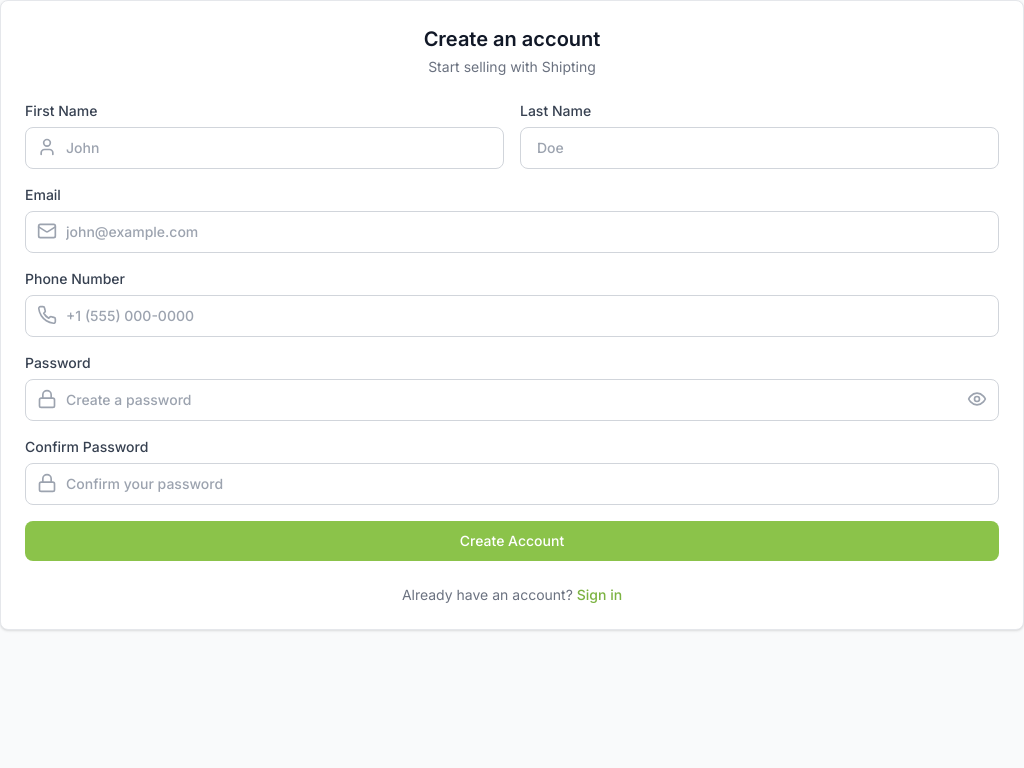
RegisterPage › shows validation errors for empty fields
Step 1. Click the button "Create Account" → [512, 541], box [25, 521, 999, 561]
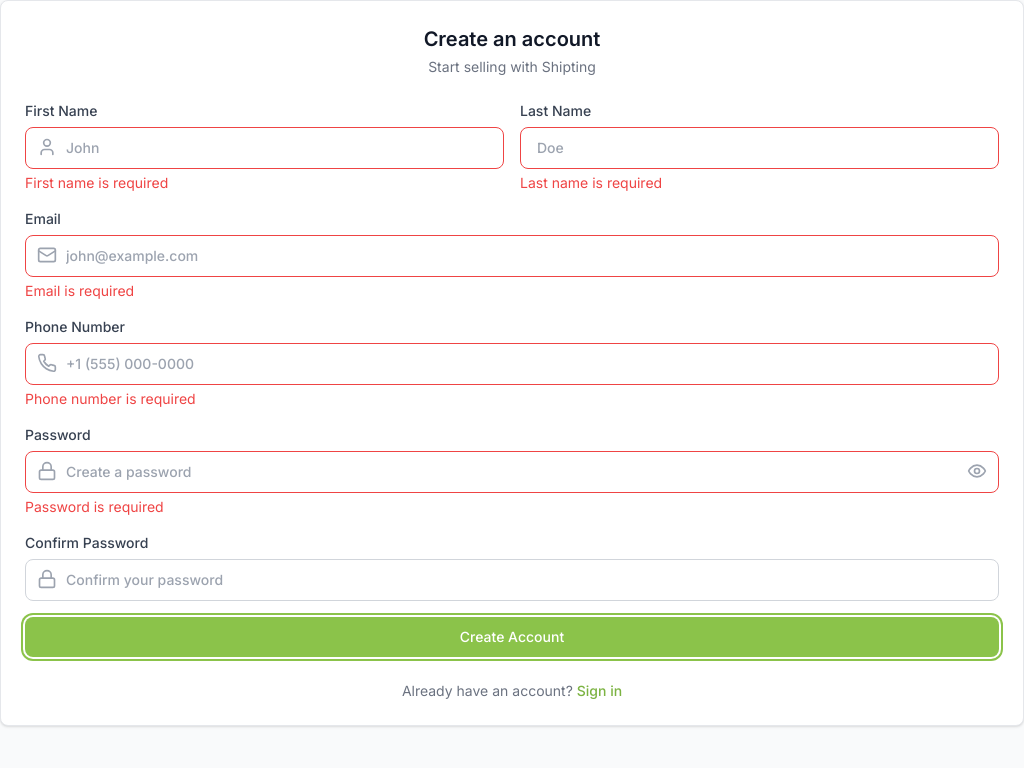
Expected: the text "First name is required" is shown, [25, 174, 168, 191]
Expected: the text "Last name is required" is shown, [520, 174, 662, 191]
Expected: the text "Email is required" is shown, [25, 282, 134, 299]
